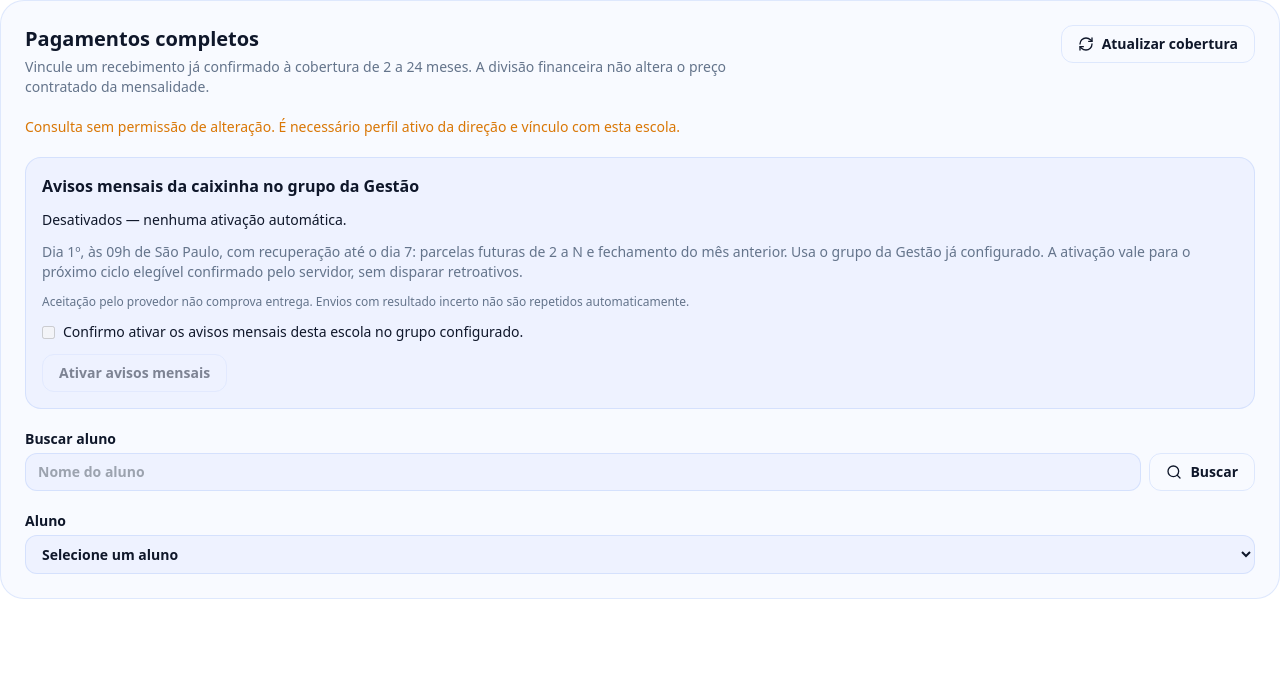
Test: pagamentos completos na direção › desabilita escritas quando o servidor não autoriza perfil ativo
This screenshot has width=1280, height=692.
Select "Aluna A" in the dropdown labelled "Aluno": (640, 554) top-left (25, 535), bottom-right (1255, 574)
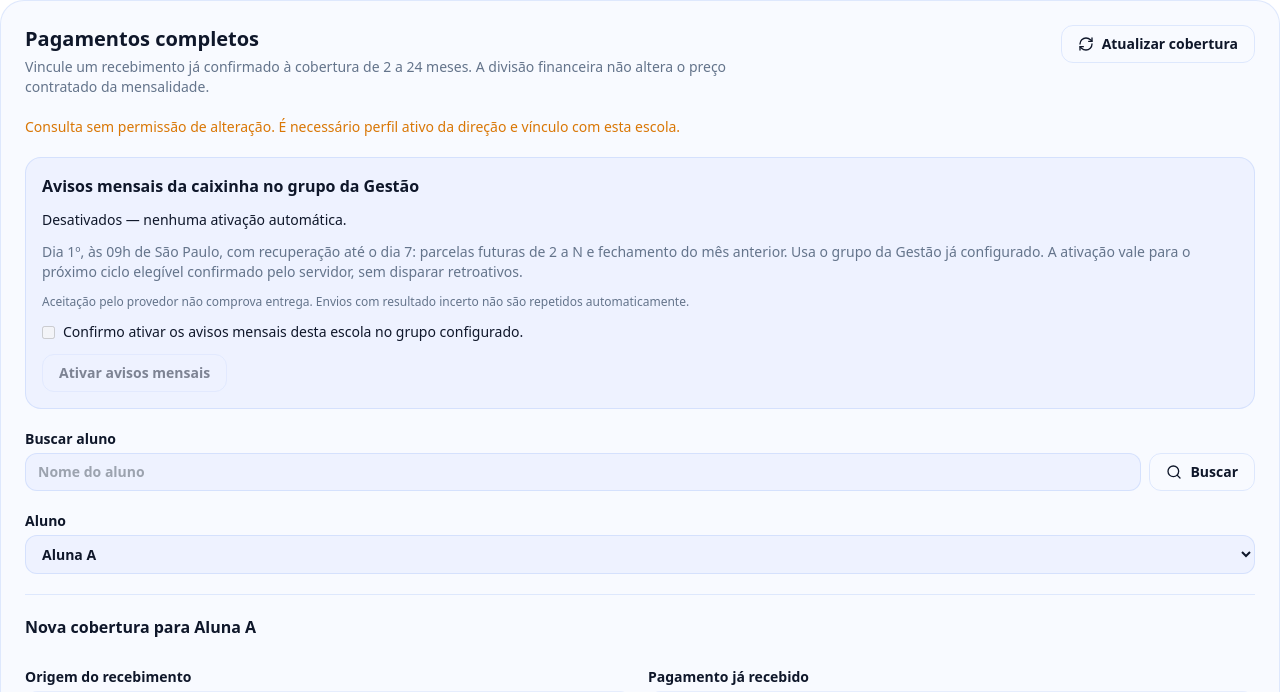
Expected: the button "Ativar avisos mensais" is disabled, top-left (42, 354), bottom-right (227, 392)
Result: the text "Nova cobertura para Aluna A" is shown at top-left (25, 615), bottom-right (256, 639)
